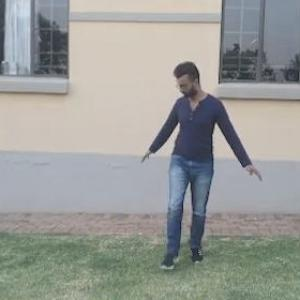land: (116, 48, 266, 273)
